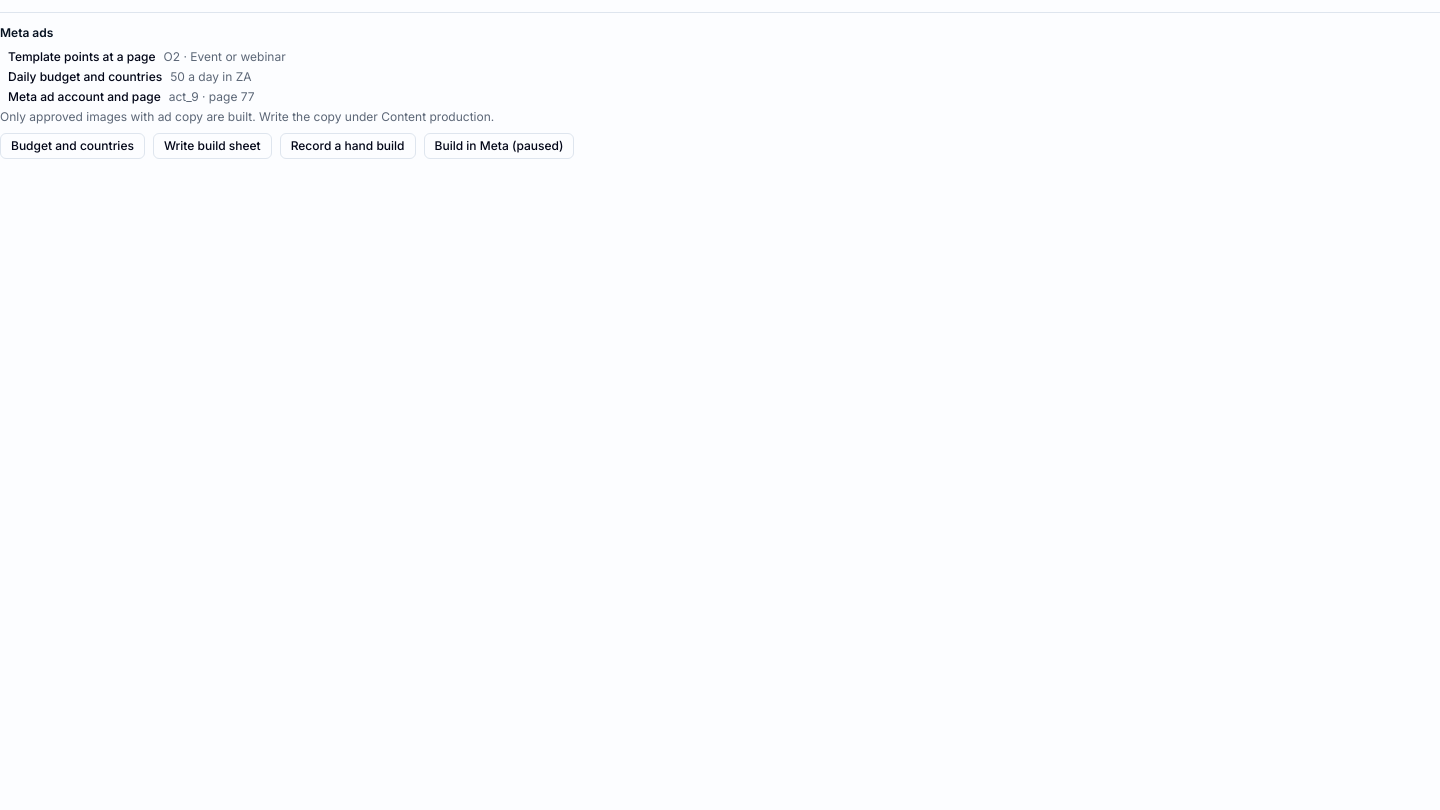
Test: MetaBuildSection › names the clash when that Meta campaign is already recorded elsewhere
This screenshot has width=1440, height=810.
Click the button "Record a hand build". click: (348, 146)
box: [280,133,416,159]
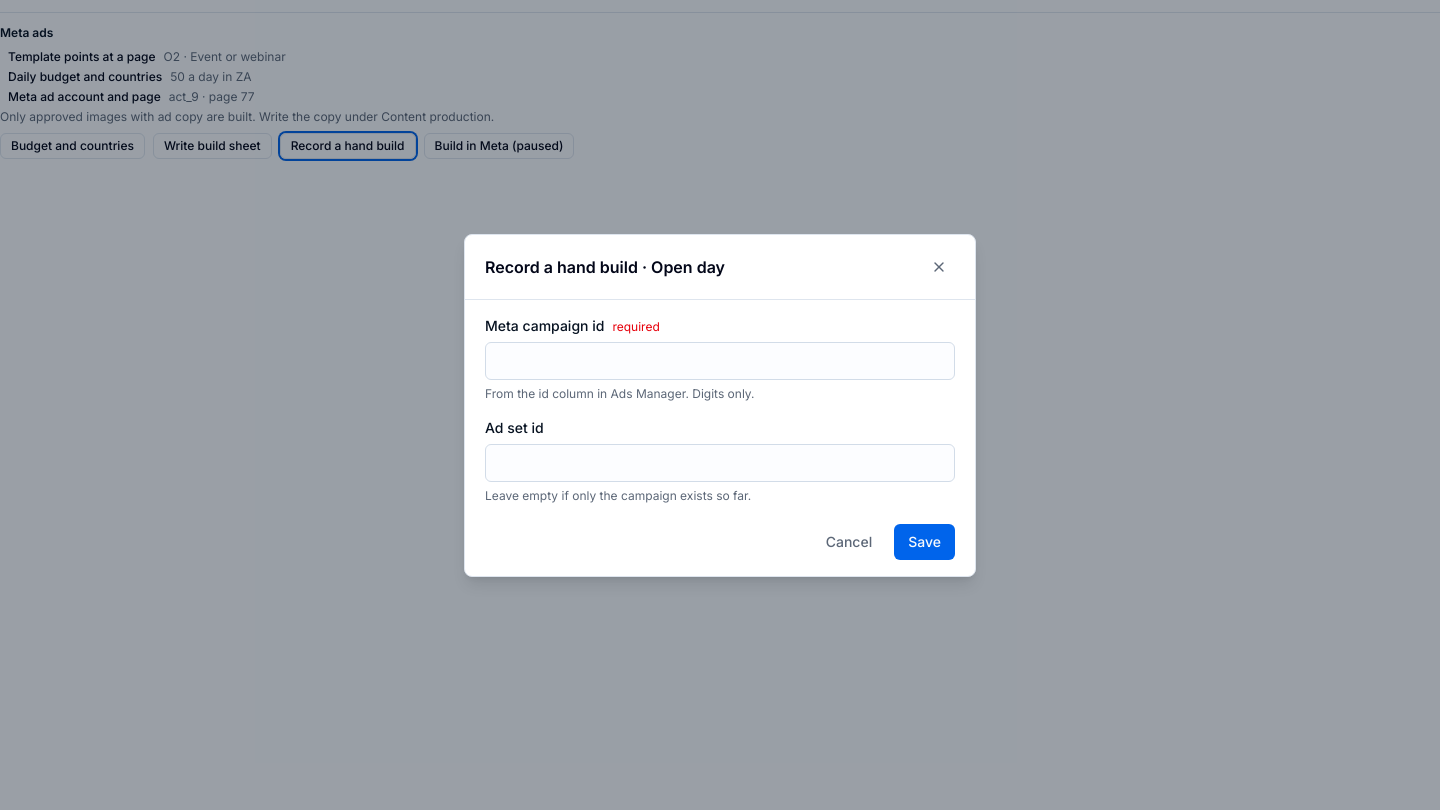
Type "120200" into the field labelled "Meta campaign id required". click: (720, 360)
box: [485,342,955,380]
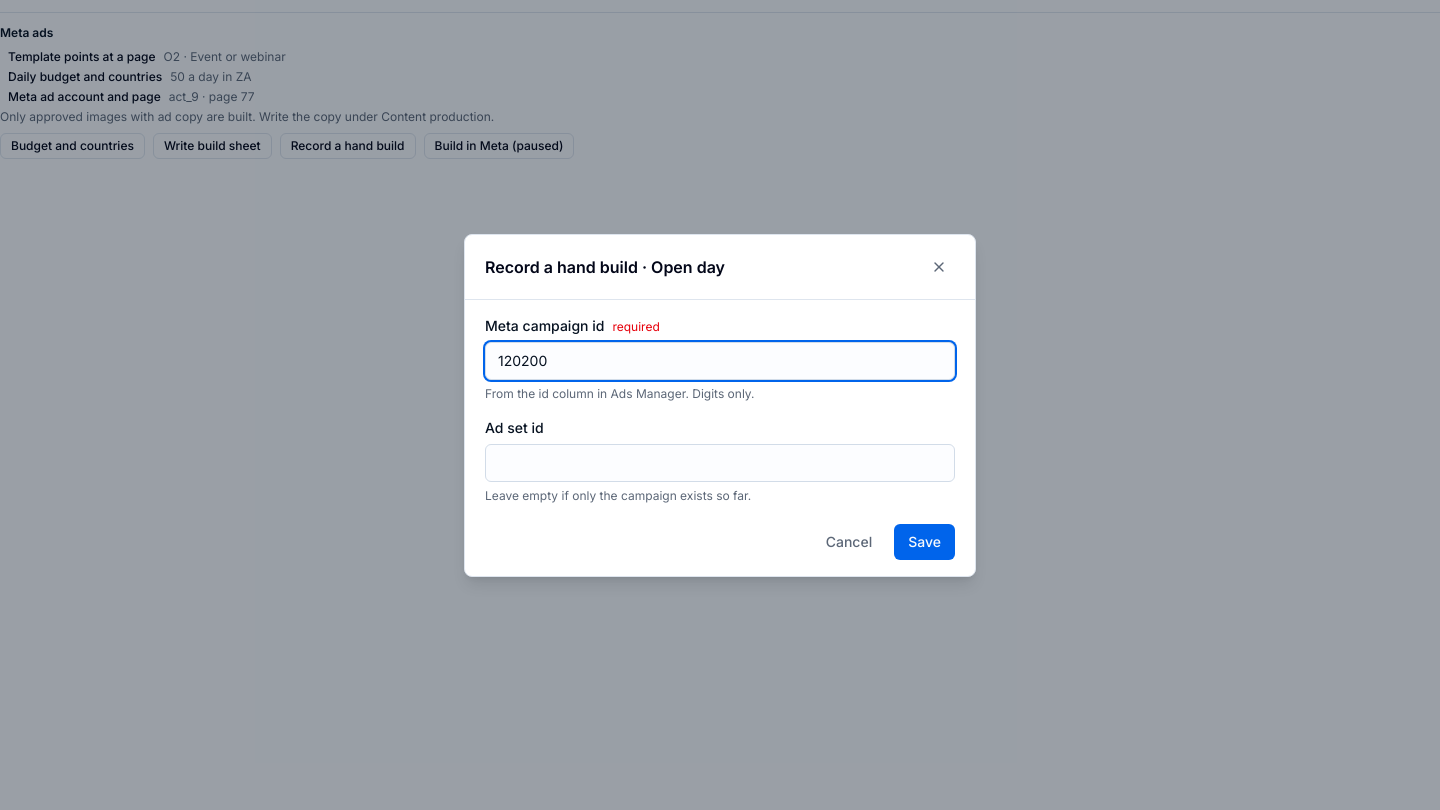
Click the button "Save". click: (925, 542)
box: [894,524,955,560]
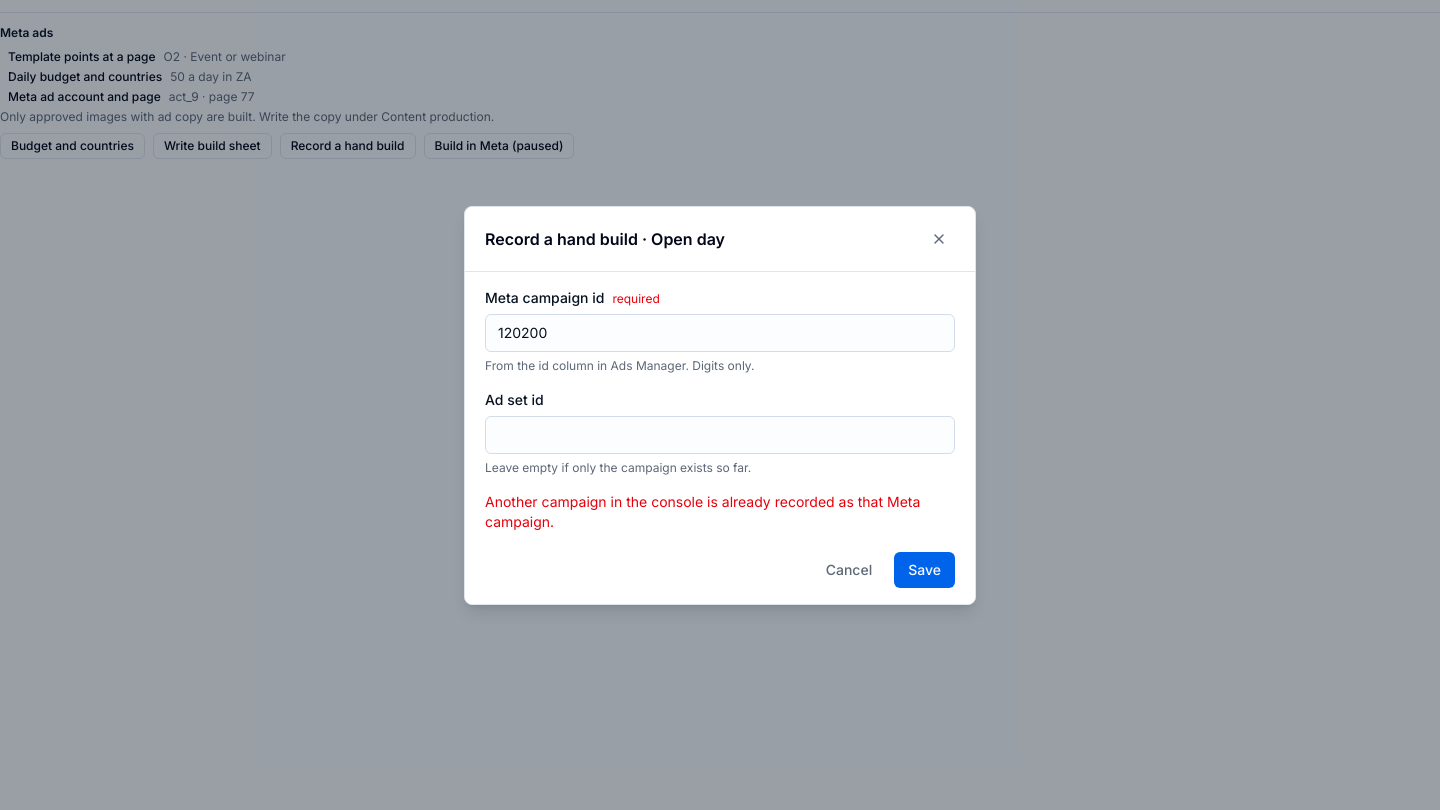
Expected: the text "Another campaign in the console is already recorded as that Meta campaign." is shown, [485,492,955,532]
